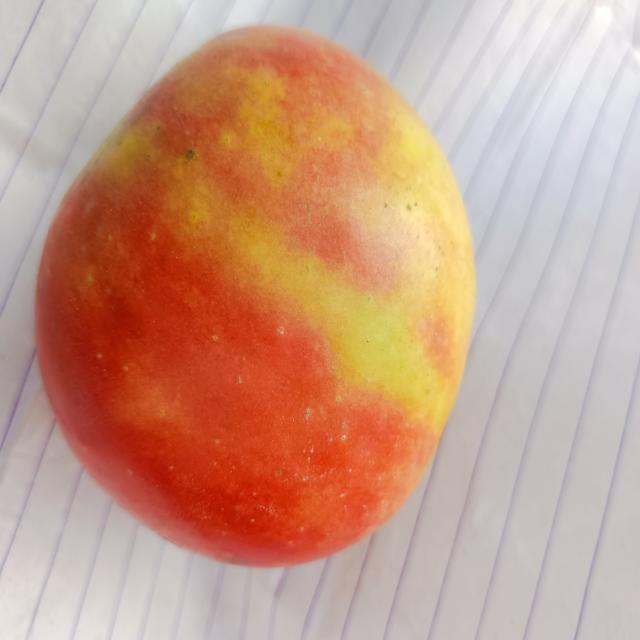Fresh Apple: (20, 25, 475, 570)
